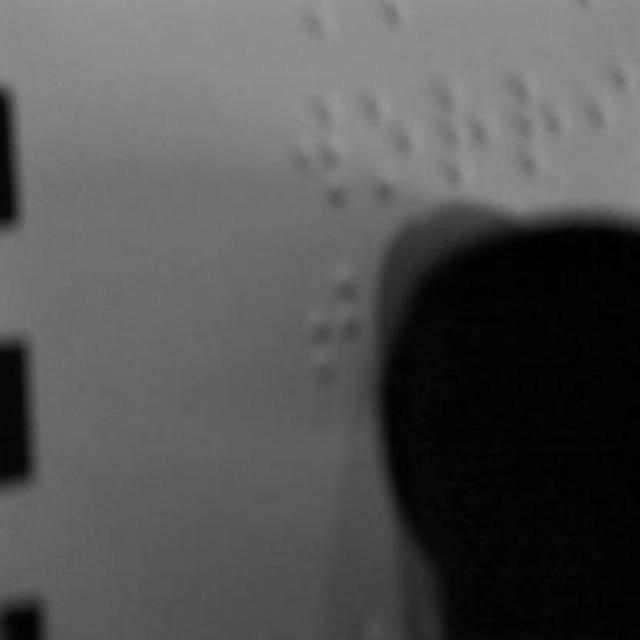braiile: (502, 64, 574, 200), (286, 82, 352, 224), (354, 80, 426, 210), (306, 245, 369, 385), (433, 76, 497, 212)
